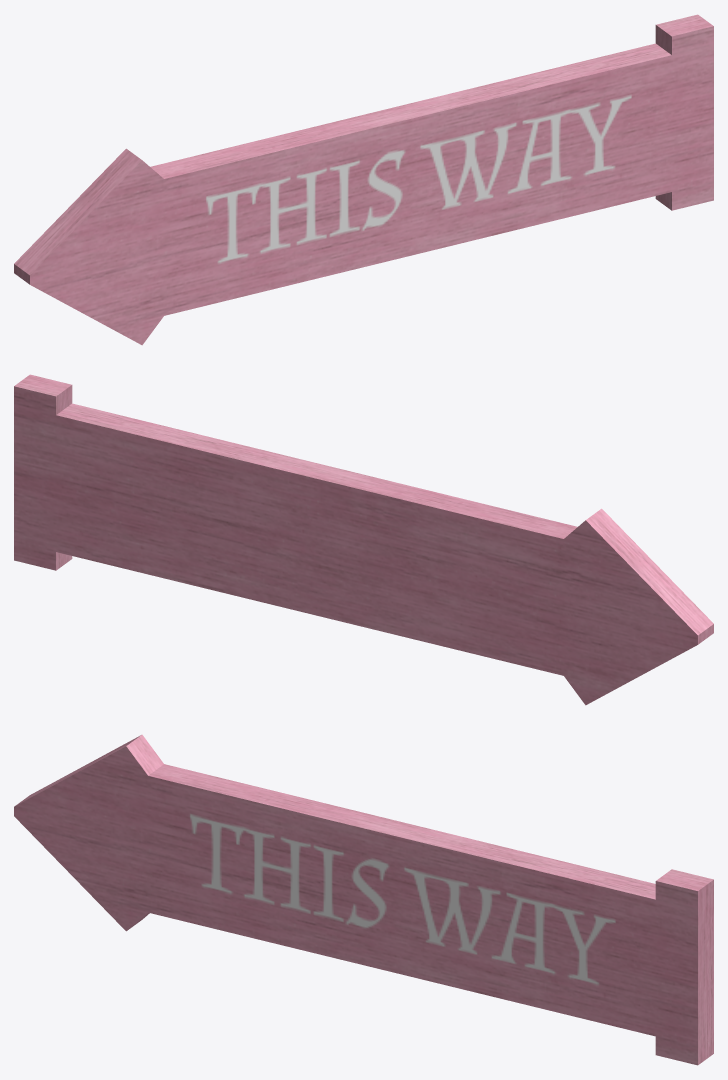
File: sign1.fbx
The picture shows the model from 3 angles, top to bottom: view 1: azimuth 30°, elevation 25°; view 2: azimuth 150°, elevation 25°; view 3: azimuth 330°, elevation 25°; orthographic projection.
Visible parts, largest first — view 1: sign1_geo; view 2: sign1_geo; view 3: sign1_geo.
Part boxes in pixels (<box>): sign1_geo: <box>14,14,713,345</box>; sign1_geo: <box>14,374,713,705</box>; sign1_geo: <box>14,734,713,1065</box>.
Bounding box in the file's own units: 13.4 × 3.47 × 0.5448.
